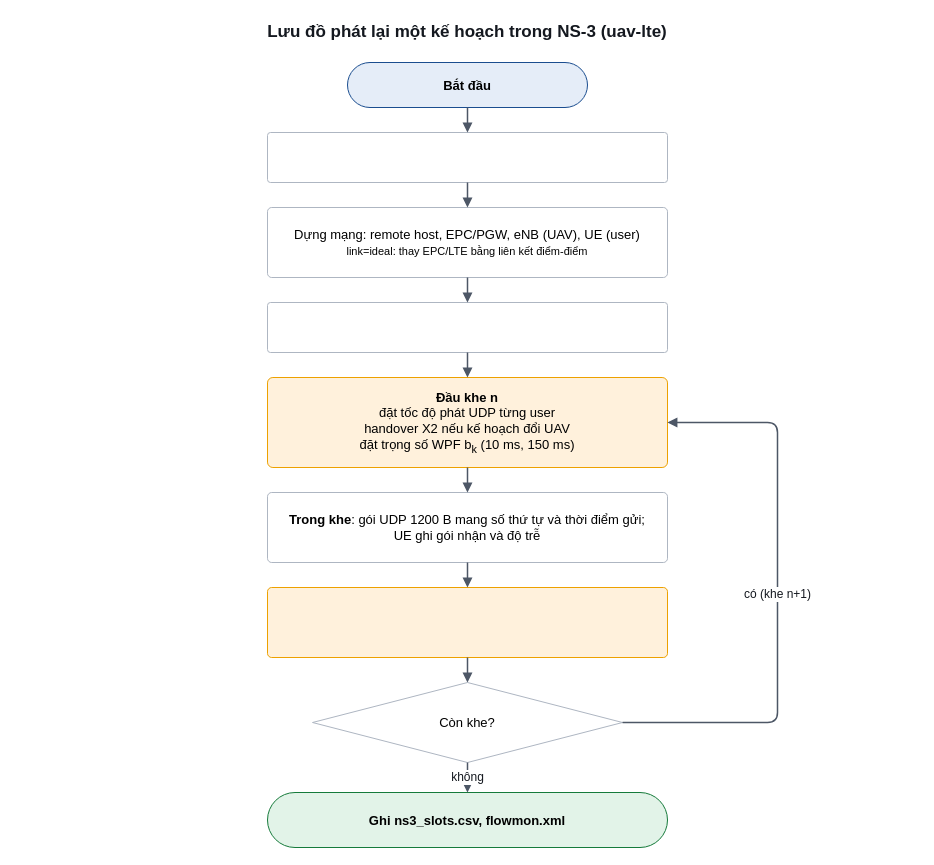
This 934x865 diagram has some shape labels left out. The centre of each missing label's shape, as x and y in pixels:
"Cuối khe n : ghi gói gửi/nhận, byte, tổng độ trễ, cell đang gắn; đặt lại bộ đếm" belongs at (467,622).
"Đặt điểm mốc vị trí eNB, UE; attach UE theo khe 0" belongs at (467,327).
"Đọc kế hoạch uavs.csv, users.csv" belongs at (467,157).
